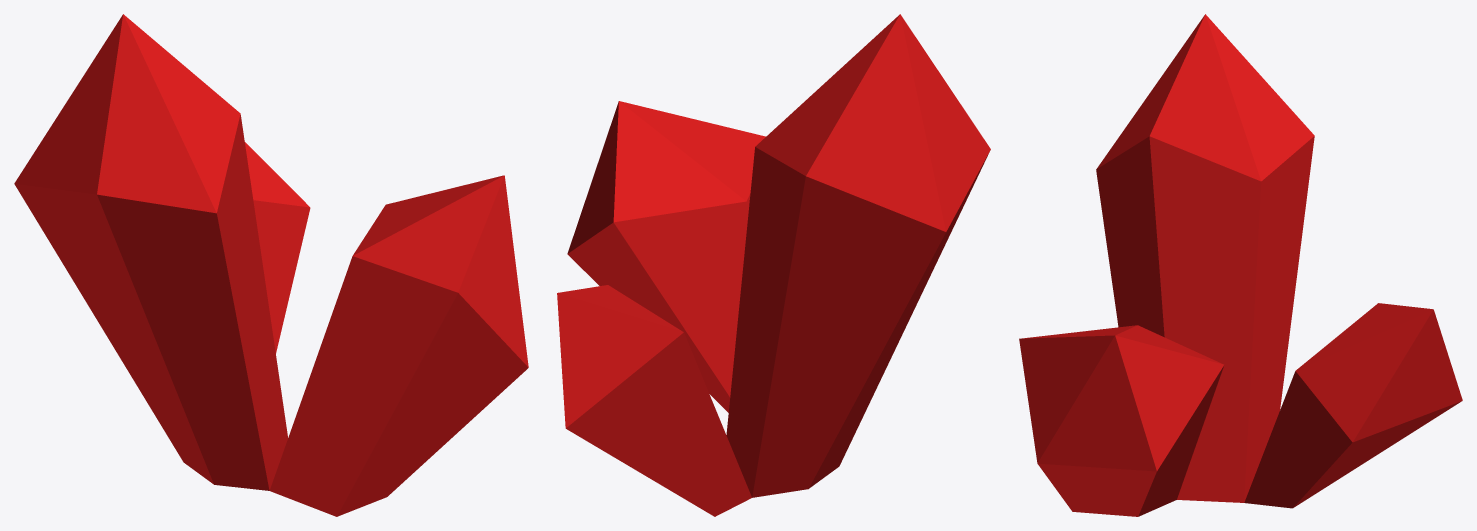
The model's file is Crystal-B02.fbx.
3 views of the same model, side by side, from view 1: azimuth 30°, elevation 25°; view 2: azimuth 150°, elevation 25°; view 3: azimuth 270°, elevation 25° (orthographic). The views are drawn at different scales.
Visible parts, largest first — view 1: Crystal-B02; view 2: Crystal-B02; view 3: Crystal-B02.
Part boxes in pixels (x1,y1,x2,y2): Crystal-B02: (14,14,528,516); Crystal-B02: (557,14,990,516); Crystal-B02: (1019,14,1462,516).
Bounding box in the file's own units: 76.35 × 80.94 × 76.69.
